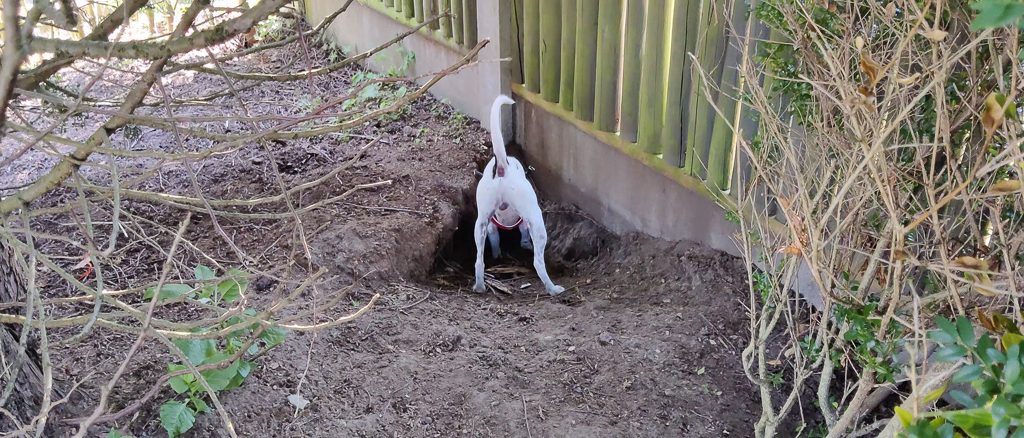Dog: (451, 73, 580, 320)
